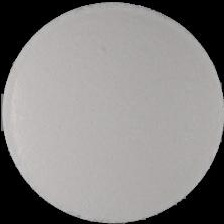0615-3596: (0, 0, 224, 224)
